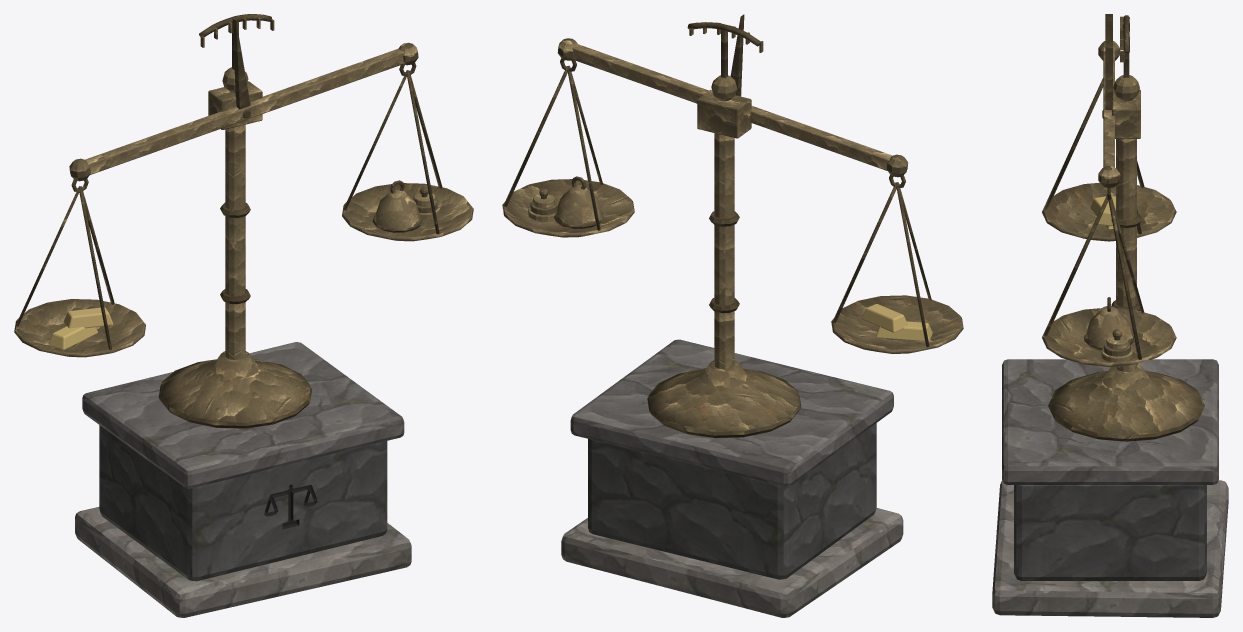
File: bv_balance_great.glb
The picture shows the model from 3 angles, left to right: view 1: azimuth 30°, elevation 25°; view 2: azimuth 150°, elevation 25°; view 3: azimuth 270°, elevation 25°; orthographic projection.
Parts seen in each view (by area): view 1: model; view 2: model; view 3: model.
Part boxes in pixels (bbox=[...]): model: bbox=[14, 14, 473, 617]; model: bbox=[502, 14, 963, 617]; model: bbox=[992, 14, 1228, 617].
Bounding box in the file's own units: 1.29 × 1.49 × 0.5882.
Materials: 10 (7 with a texture image).
